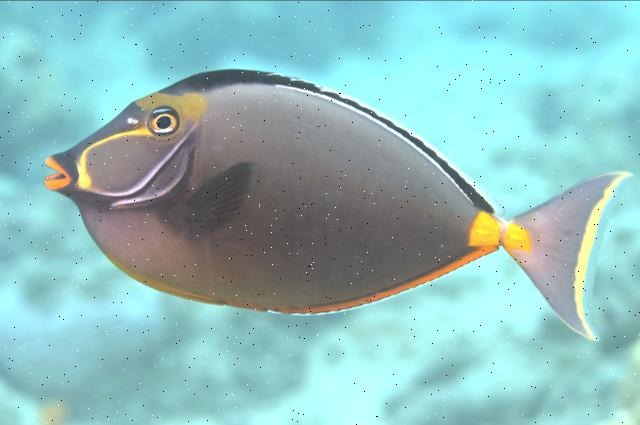Mulut: (18, 130, 98, 218)
Sirip Anal: (268, 238, 506, 332)
Sirip Dada: (148, 148, 284, 266)
Sirip Ekor: (506, 156, 640, 354)
Sirip Punggung: (198, 55, 512, 214)
